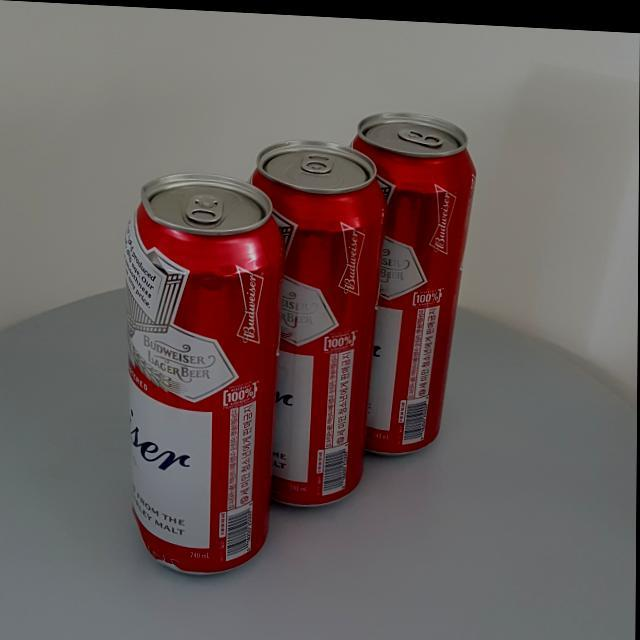beer-can: (123, 168, 286, 576), (232, 134, 387, 507), (333, 105, 477, 455)
